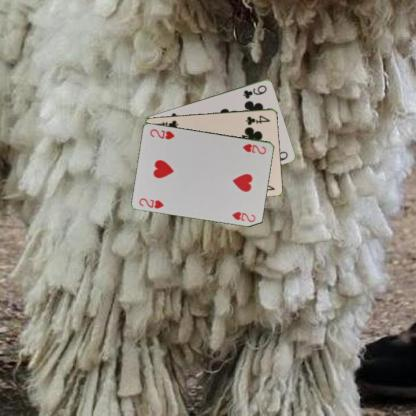2h: (137, 195, 165, 210), (240, 141, 268, 155)
4c: (243, 112, 272, 126)
9c: (240, 82, 268, 100)
